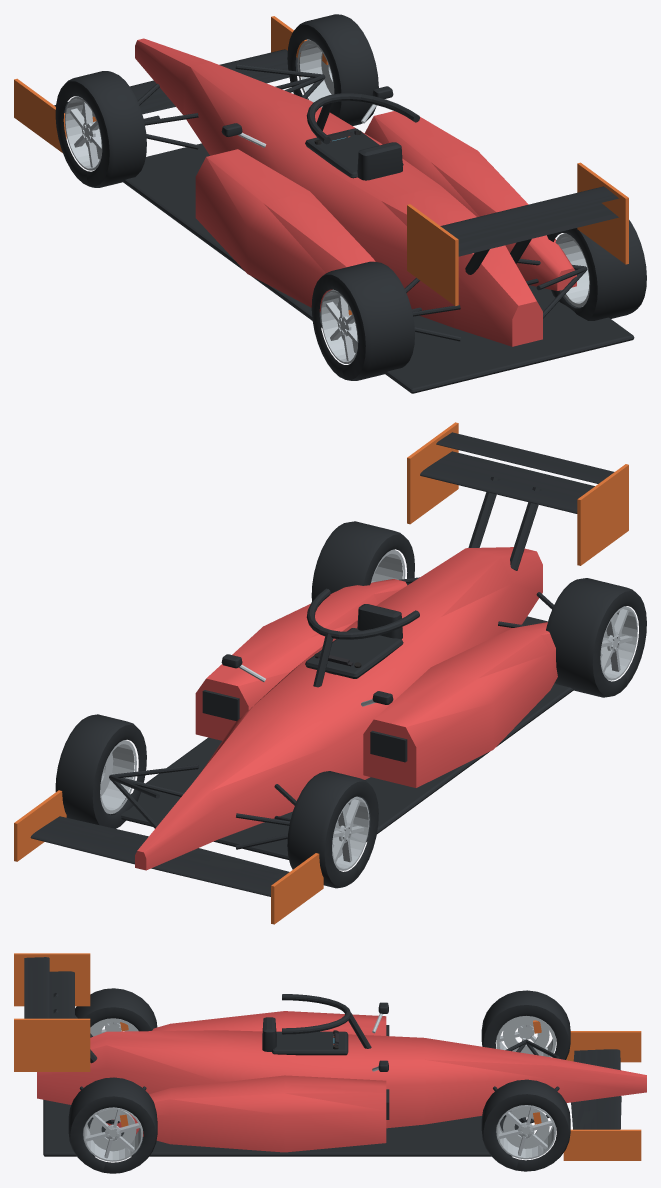
File: formula_halo.glb
The picture shows the model from 3 angles, top to bottom: view 1: azimuth 30°, elevation 25°; view 2: azimuth 150°, elevation 25°; view 3: azimuth 270°, elevation 25°; orthographic projection. The views are drawn at different scales.
Parts seen in each view (by area): view 1: Body, Wheel_RL, Wheel_FL, Wheel_FR, Wheel_RR; view 2: Body, Wheel_RL, Wheel_FL, Wheel_FR, Wheel_RR; view 3: Body, Wheel_RR, Wheel_FR, Wheel_FL, Wheel_RL.
Boxes of the visible parts, <box> form: Body: <box>14,16,634,393</box>; Wheel_RL: <box>311,261,414,380</box>; Wheel_FL: <box>55,71,146,187</box>; Wheel_FR: <box>287,14,378,125</box>; Wheel_RR: <box>547,220,646,320</box>; Body: <box>14,422,628,924</box>; Wheel_RL: <box>546,578,646,697</box>; Wheel_FL: <box>287,771,378,888</box>; Wheel_FR: <box>55,714,146,828</box>; Wheel_RR: <box>311,521,414,601</box>; Body: <box>14,953,646,1160</box>; Wheel_RR: <box>68,1077,157,1173</box>; Wheel_FR: <box>481,1079,570,1171</box>; Wheel_FL: <box>481,990,570,1059</box>; Wheel_RL: <box>75,988,157,1036</box>.
Size of the model in its own units: 2.04 by 1.17 by 4.98.
